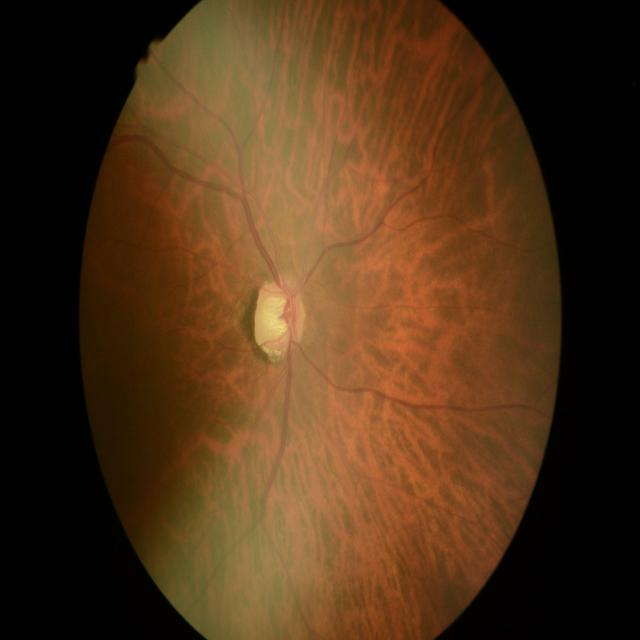cup: (257, 288, 296, 345)
disk: (254, 278, 305, 358)
